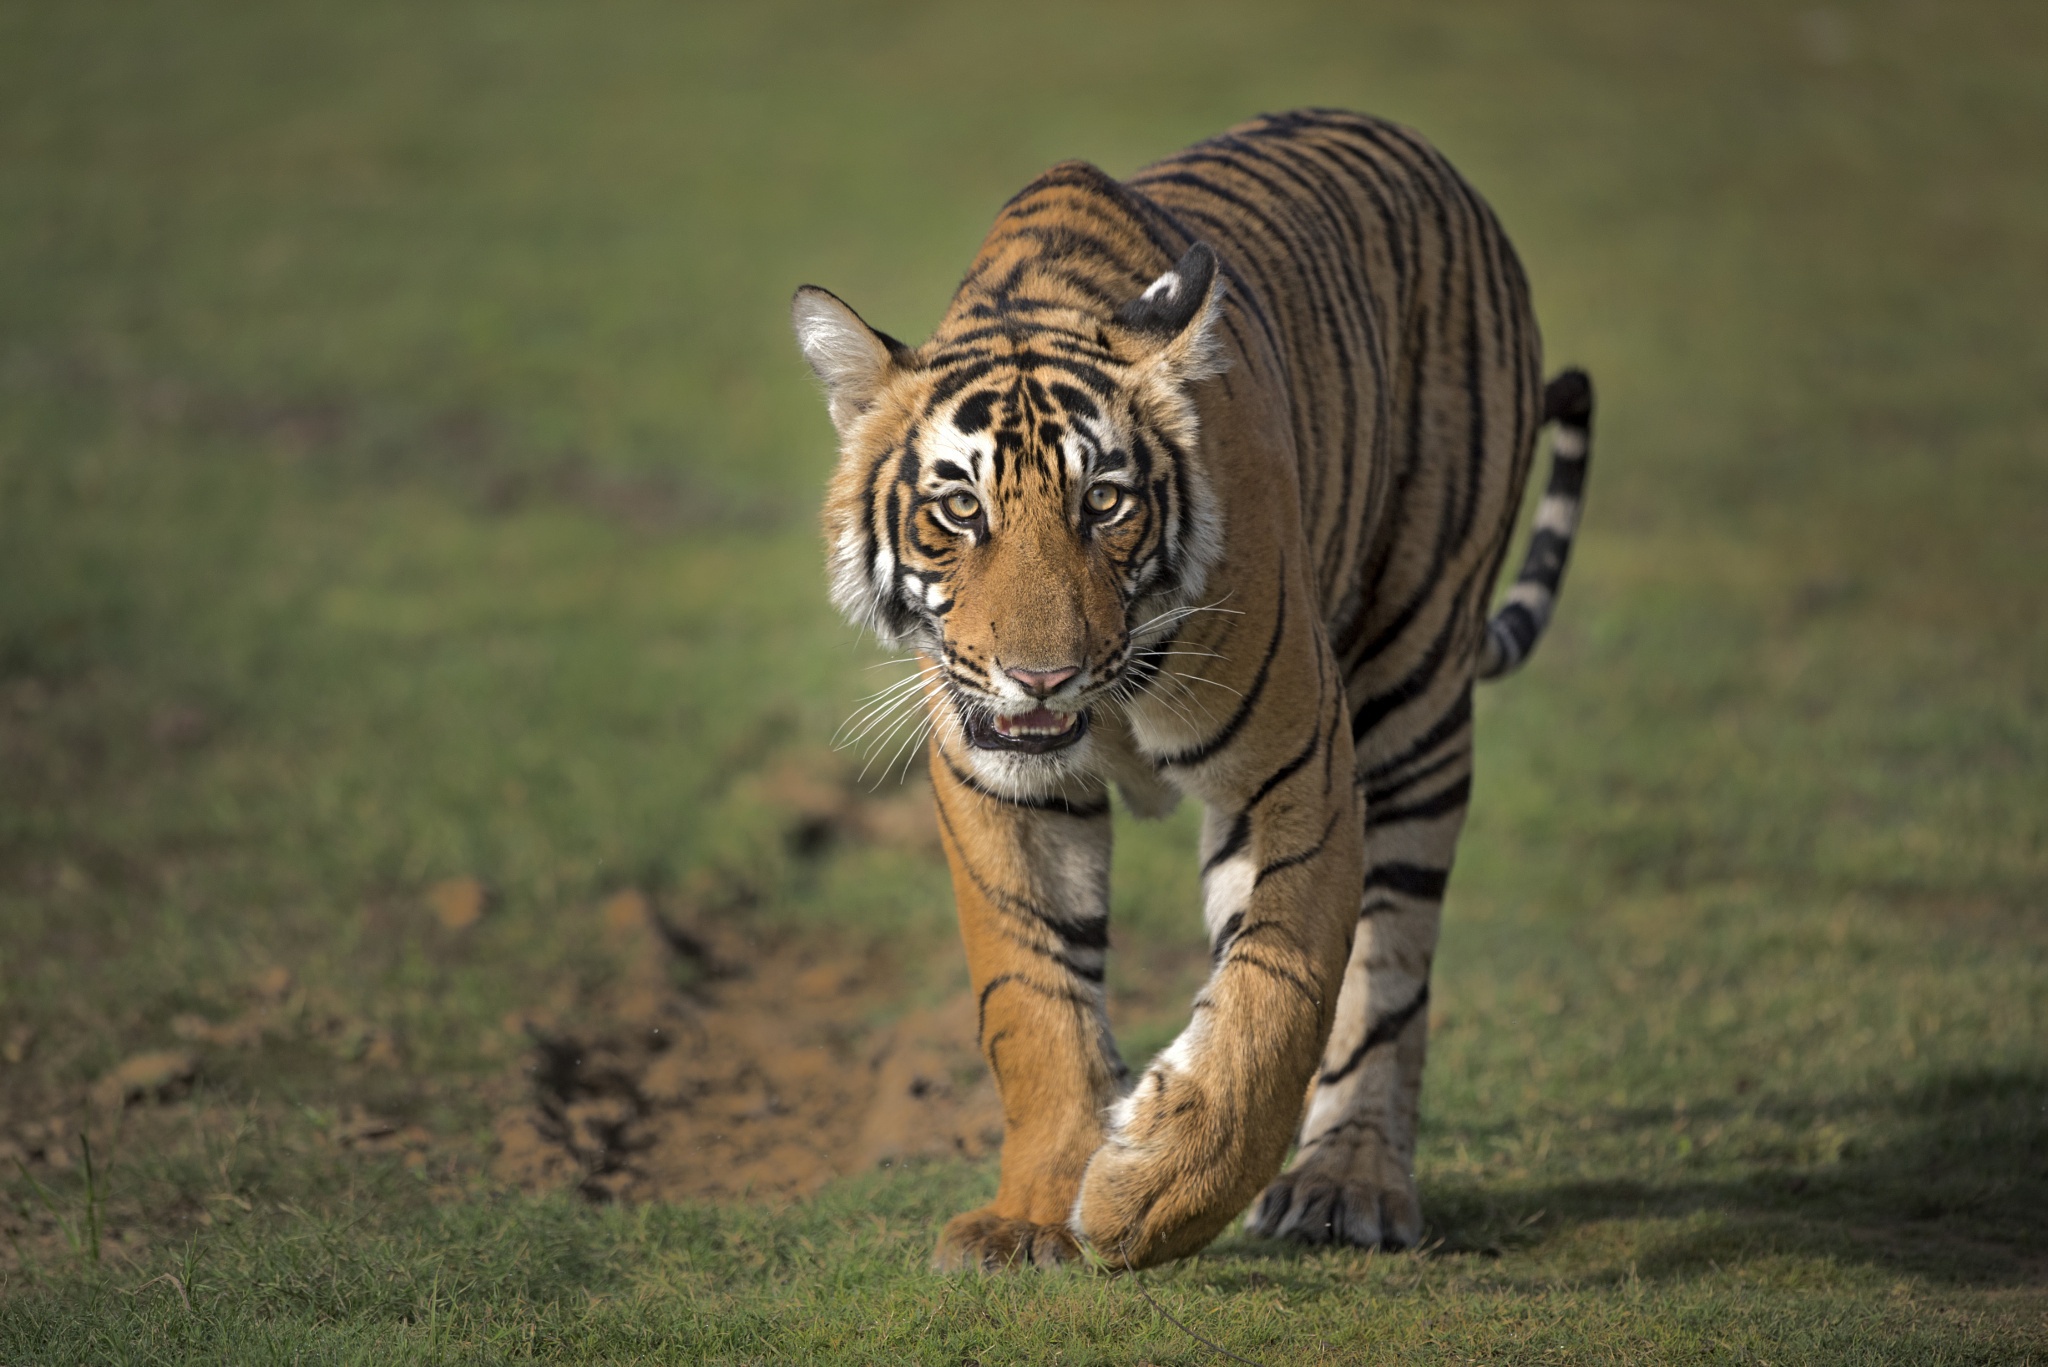tiger: (822, 124, 1635, 1292)
